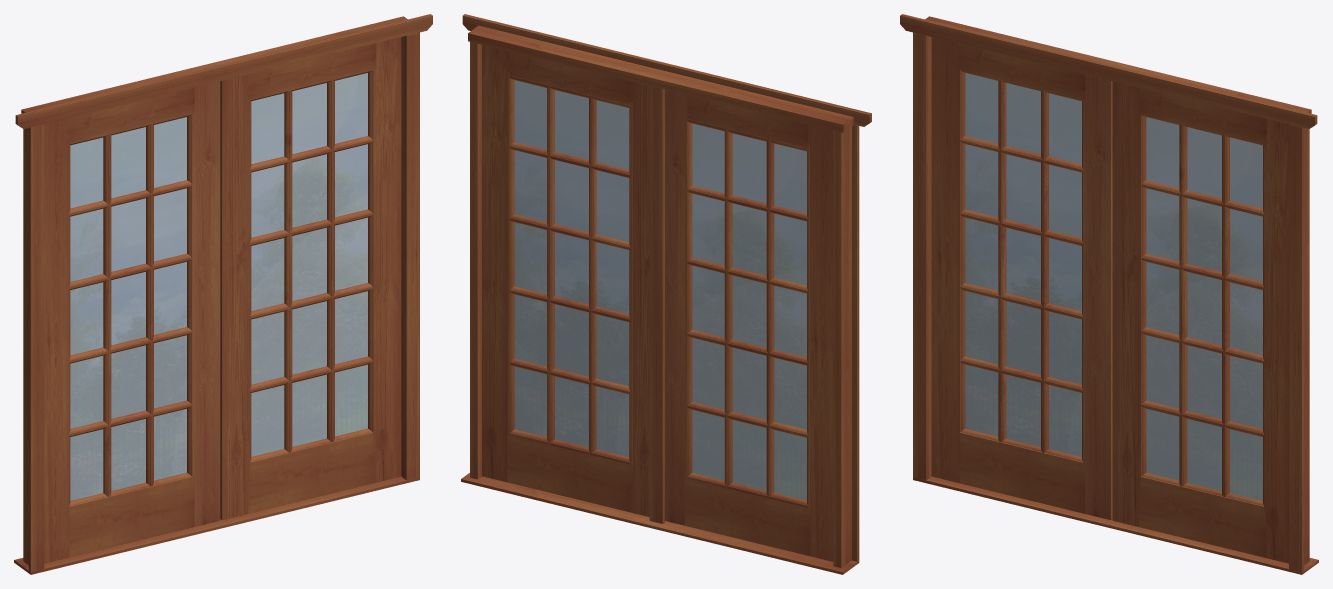
3 renders of one model, left to right at view 1: azimuth 30°, elevation 25°; view 2: azimuth 150°, elevation 25°; view 3: azimuth 330°, elevation 25°, orthographic.
Visible parts, largest first — view 1: glass, glass001, door_left001, door_right001, door_right, door_left, trim_left, trim_right, trim_top, door_bottom001, door_bottom, door_top (+23 smaller); view 2: glass, glass001, door_right001, door_left, door_right, box_left, door_left001, box_top, astragal, door_bottom, door_bottom001, box_right (+23 smaller); view 3: glass001, glass, door_right, door_left, door_left001, door_right001, trim_left, trim_right, trim_top, door_bottom001, door_bottom, door_top (+21 smaller).
Boxes of the visible parts, left/top/right/bottom form: glass: left=70, top=117, right=186, bottom=500; glass001: left=251, top=73, right=367, bottom=456; door_left001: left=220, top=74, right=250, bottom=520; door_right001: left=373, top=37, right=401, bottom=482; door_right: left=192, top=81, right=220, bottom=526; door_left: left=44, top=118, right=69, bottom=563; trim_left: left=28, top=124, right=44, bottom=571; trim_right: left=404, top=32, right=419, bottom=480; trim_top: left=15, top=14, right=432, bottom=128; door_bottom001: left=248, top=432, right=375, bottom=513; door_bottom: left=69, top=476, right=194, bottom=557; door_top: left=67, top=87, right=194, bottom=144; glass: left=692, top=123, right=806, bottom=500; glass001: left=514, top=80, right=629, bottom=456; door_right001: left=482, top=45, right=509, bottom=482; door_left: left=808, top=124, right=833, bottom=561; door_right: left=665, top=89, right=687, bottom=525; box_left: left=833, top=127, right=851, bottom=568; door_left001: left=630, top=81, right=649, bottom=516; box_top: left=468, top=25, right=853, bottom=132; astragal: left=649, top=86, right=664, bottom=523; door_bottom: left=685, top=476, right=810, bottom=556; door_bottom001: left=507, top=433, right=632, bottom=512; box_right: left=470, top=42, right=481, bottom=479; glass001: left=1146, top=117, right=1262, bottom=500; glass: left=965, top=73, right=1081, bottom=456; door_right: left=1083, top=74, right=1112, bottom=520; door_left: left=931, top=37, right=960, bottom=482; door_left001: left=1112, top=81, right=1141, bottom=526; door_right001: left=1264, top=119, right=1288, bottom=563; trim_left: left=913, top=32, right=928, bottom=480; trim_right: left=1289, top=124, right=1304, bottom=571; trim_top: left=900, top=14, right=1317, bottom=128; door_bottom001: left=1138, top=476, right=1266, bottom=557; door_bottom: left=957, top=432, right=1085, bottom=513; door_top: left=957, top=43, right=1085, bottom=100.
Bounding box in the file's own units: 78.6 × 83.5 × 5.5.
